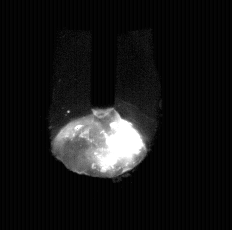arame: (90, 0, 116, 110)
poca: (50, 0, 158, 230)
